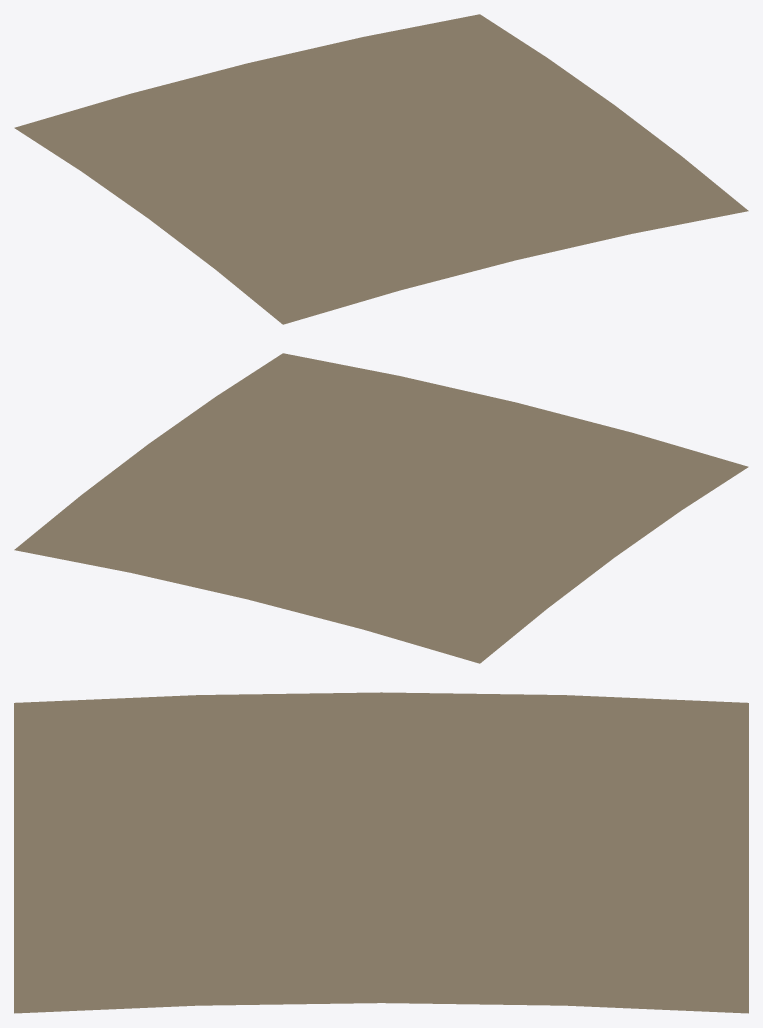
Rendered from litter.glb.
The picture shows the model from 3 angles, top to bottom: view 1: azimuth 30°, elevation 25°; view 2: azimuth 150°, elevation 25°; view 3: azimuth 270°, elevation 25°; orthographic projection. The views are drawn at different scales.
Parts seen in each view (by area): view 1: litter; view 2: litter; view 3: litter.
Part boxes in pixels (x1,y1,x2,y2): litter: (14, 14, 748, 324); litter: (14, 353, 748, 663); litter: (14, 692, 748, 1013).
Size of the model in its own units: 1.6 by 0.05 by 1.6.
